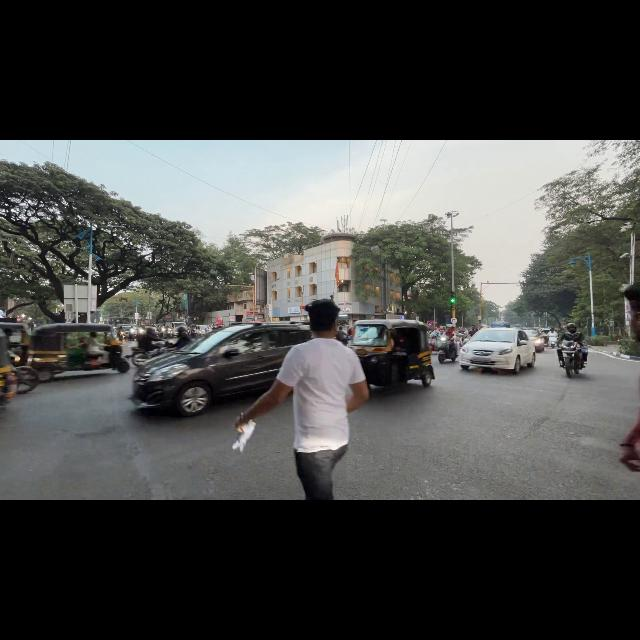car: (132, 322, 311, 416), (460, 328, 535, 373), (525, 330, 545, 352)
motorcycle: (125, 342, 169, 366), (561, 341, 584, 377), (13, 366, 39, 394), (14, 366, 39, 394), (437, 335, 457, 363), (430, 334, 437, 351), (548, 336, 557, 348)
